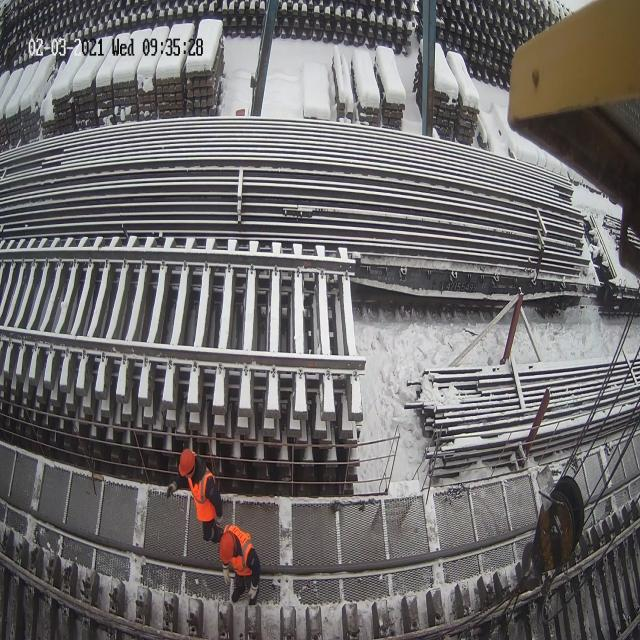Helmet: (178, 449, 195, 477), (222, 536, 238, 560)
Person: (166, 448, 223, 543), (219, 523, 261, 605)
